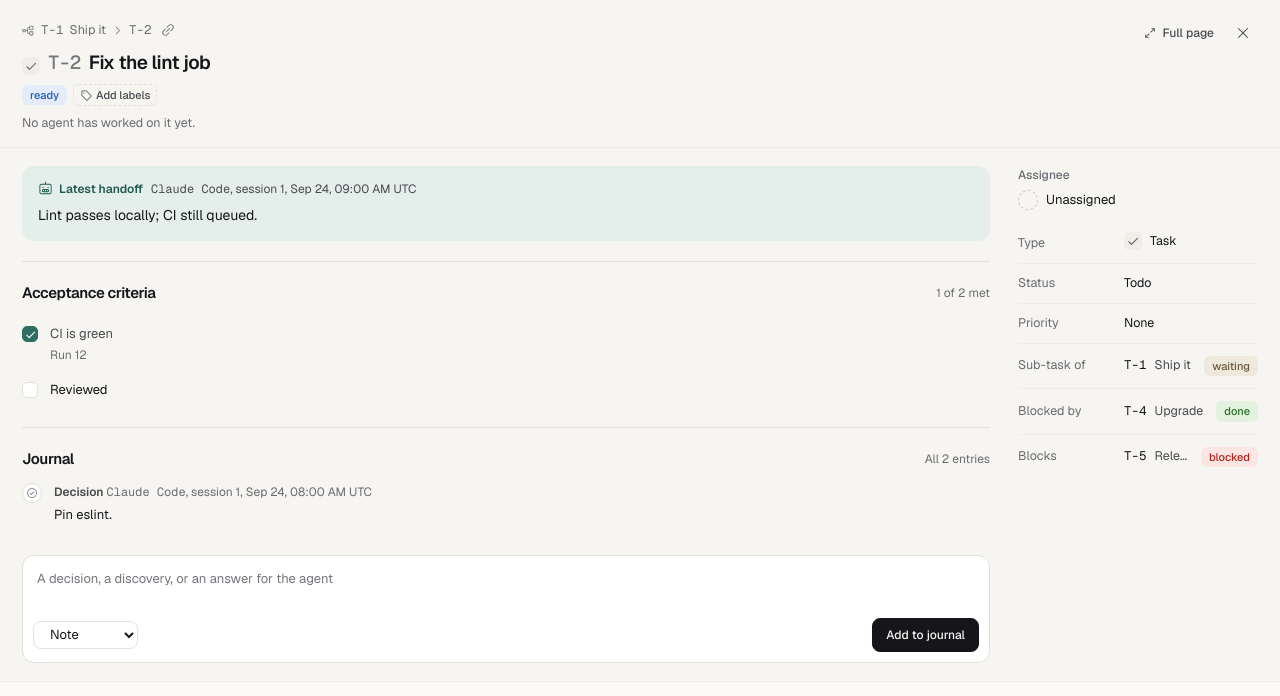
Scenario: task trail › links the parent above the title, and copies the task's link
The width and height of the screenshot is (1280, 696).
Click the button named "Copy link to T-2" at (168, 30), box [156,18,180,42]
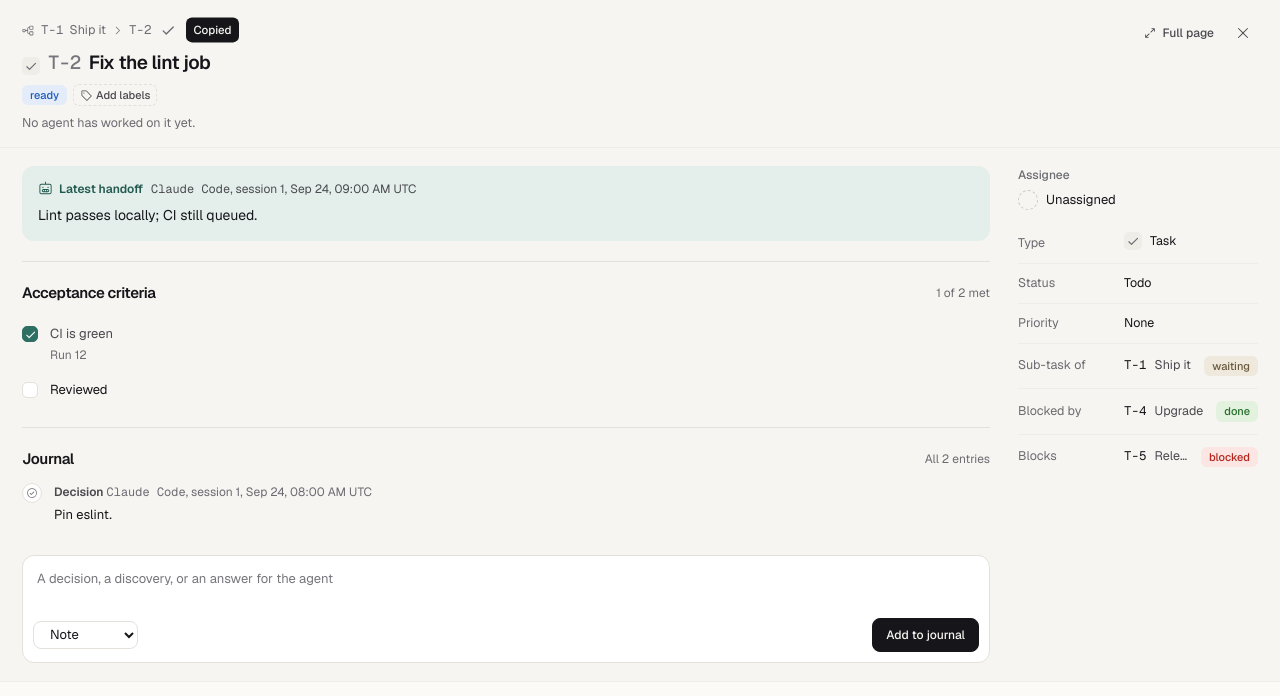
expect the message reads "Copied": met, box [194,22,232,37]
